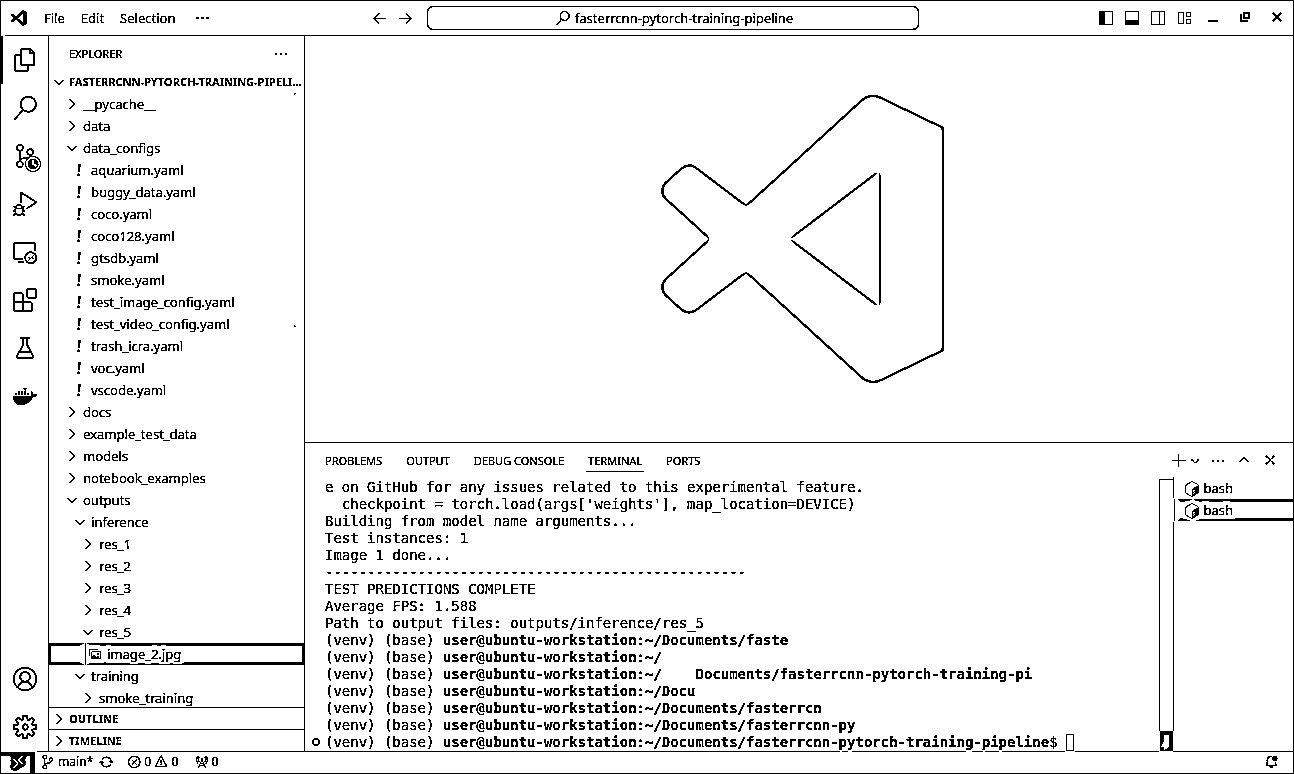Accounts: (4, 658, 41, 691)
Activity Bar: (2, 35, 46, 748)
Close: (1263, 7, 1286, 30)
Explorer: (6, 41, 45, 74)
Extensions: (2, 277, 42, 316)
Manage: (6, 711, 38, 740)
Maximize: (1231, 5, 1255, 27)
Minimize: (1201, 4, 1222, 28)
Panel: (297, 440, 1291, 754)
Primary Side Bar: (300, 39, 1291, 446), (41, 32, 308, 751)
Run and Debug: (0, 184, 42, 217)
Search: (8, 86, 45, 122)
Search Bar: (421, 3, 921, 31)
Source Control: (4, 133, 44, 174)
Status Bar: (2, 751, 1291, 771)
Testing: (8, 330, 40, 367)
Top Bar: (2, 0, 1291, 37)
